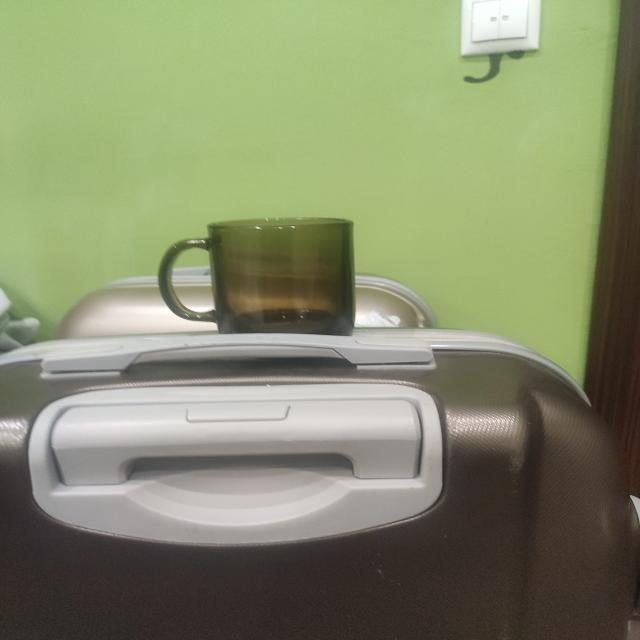cups: (157, 218, 355, 336)
